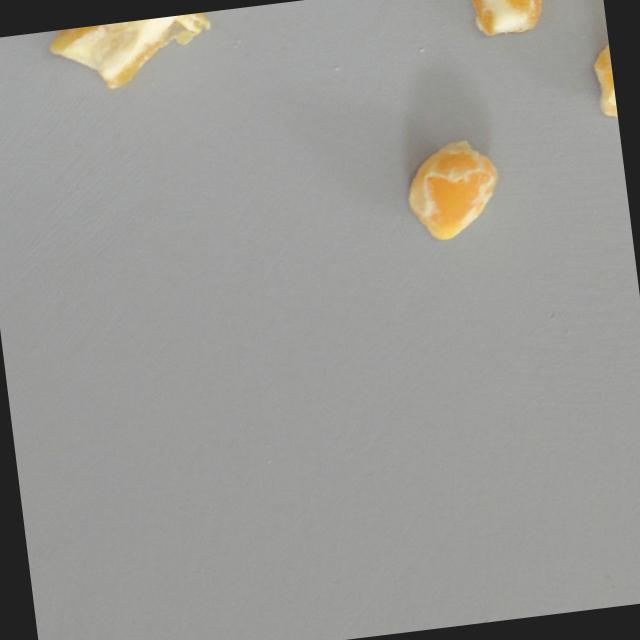dañado: (43, 10, 225, 102), (394, 129, 511, 249), (459, 0, 549, 45), (584, 24, 618, 123)
